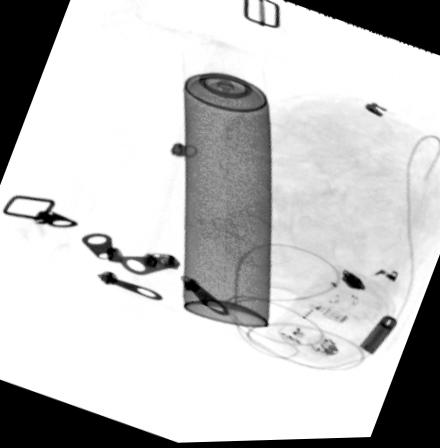Sprayer: (181, 38, 272, 331)
